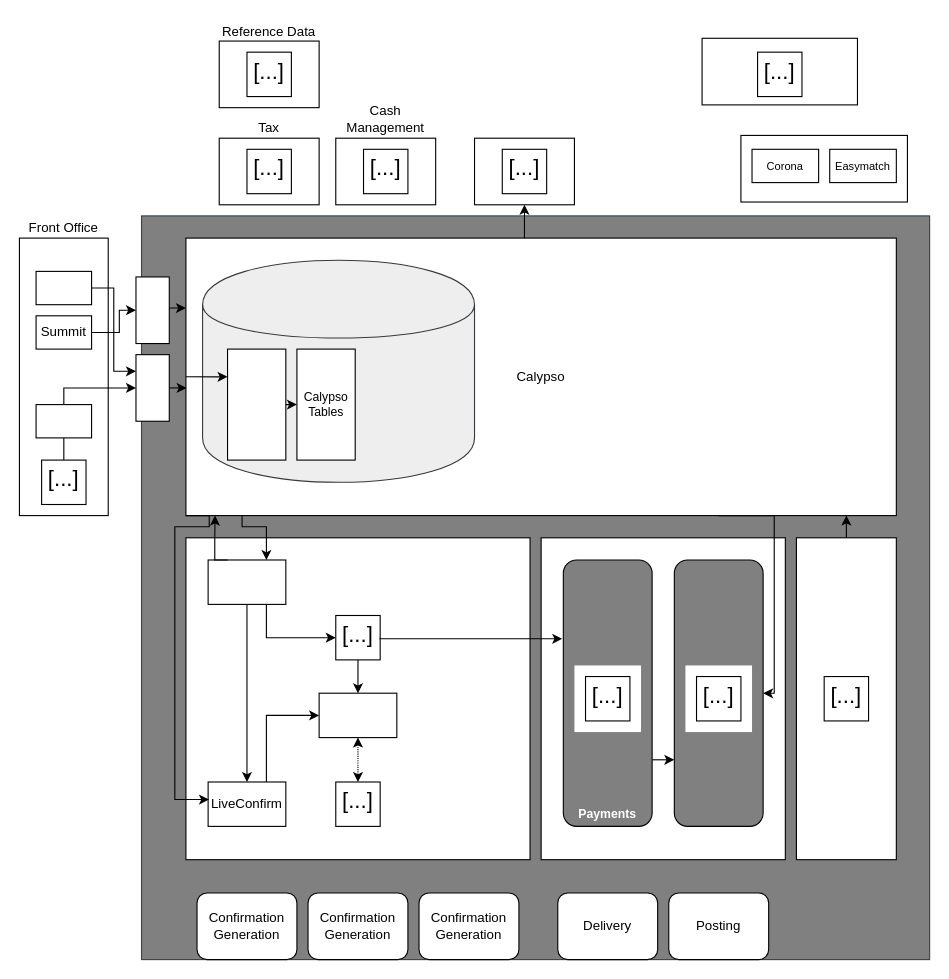
The diagram is 949 pixels wide and 979 high, and some of its shapes have lost their labels. Each missing label, with the box of its shape:
Accounting: (673, 559, 763, 826)
DEALBUS: (135, 354, 169, 421)
Murex Equity: (35, 270, 92, 305)
Murex FX Cash: (35, 403, 92, 438)
Post-Settlement: (795, 537, 896, 860)
Pre-Settlement: (185, 537, 530, 860)
Reconciliation: (740, 134, 907, 202)
Regulatory Reporting: (473, 137, 574, 205)
Reporting (Finance/Risk): (701, 37, 857, 105)
Settlement: (540, 537, 785, 860)
Staging Area: (226, 348, 286, 460)
TE: (135, 276, 169, 344)
TraCE: (207, 559, 286, 604)
TRAM: (318, 692, 397, 738)
